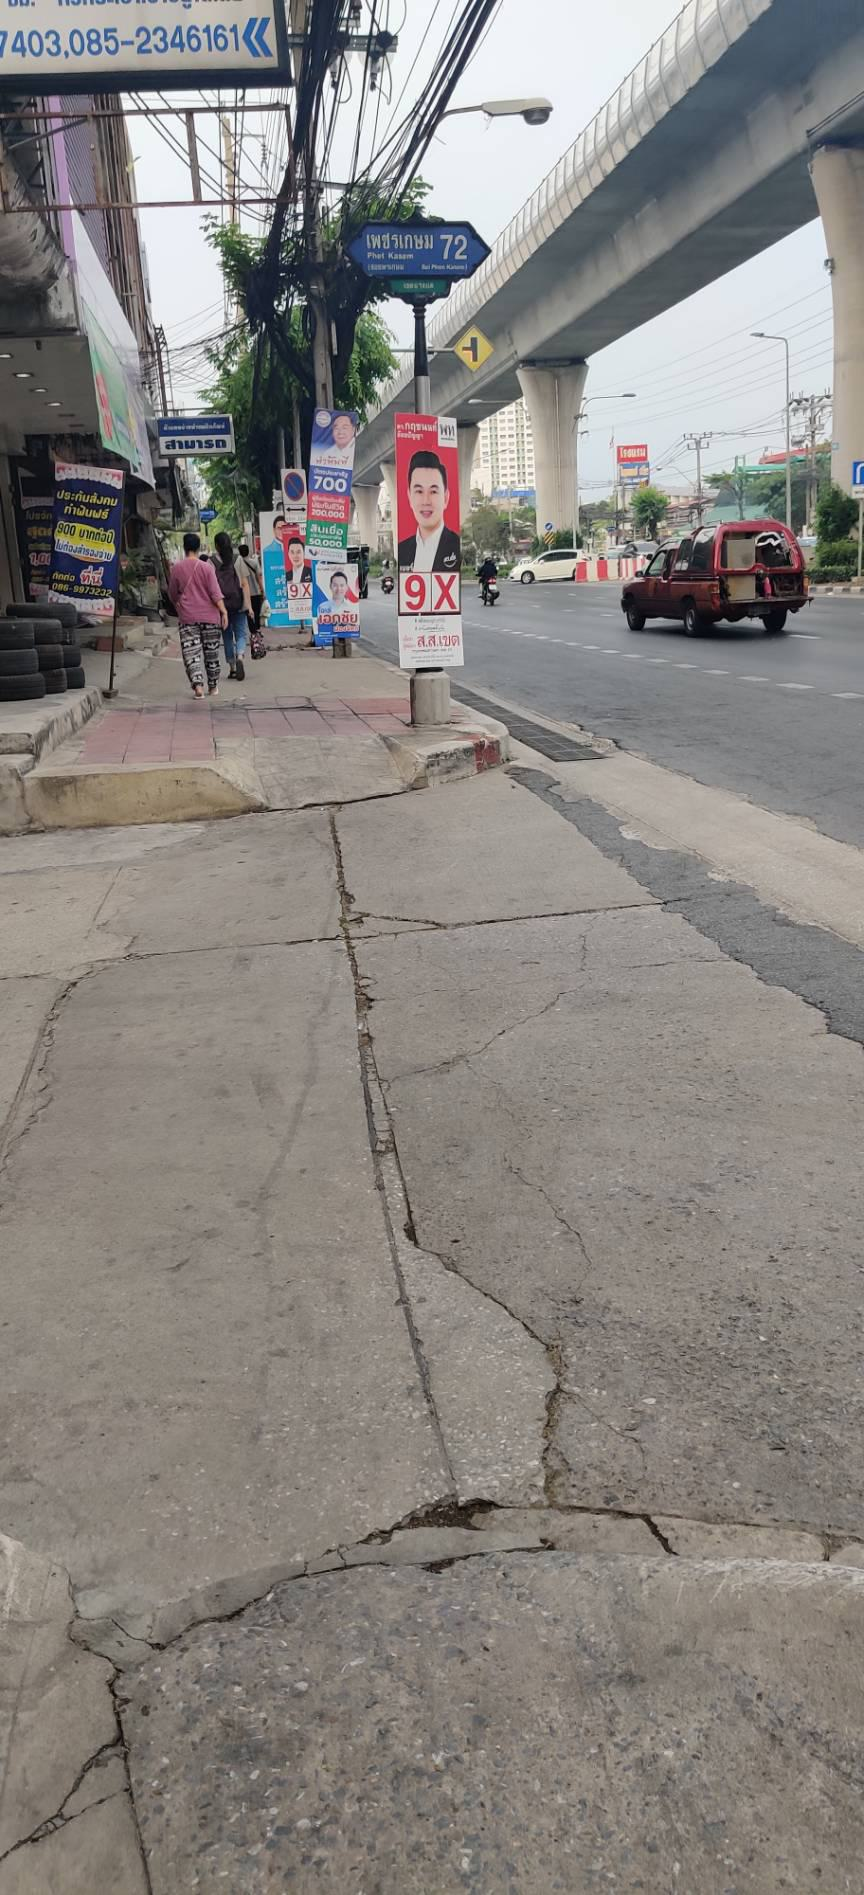Banner: (393, 406, 471, 673), (305, 406, 363, 499)
